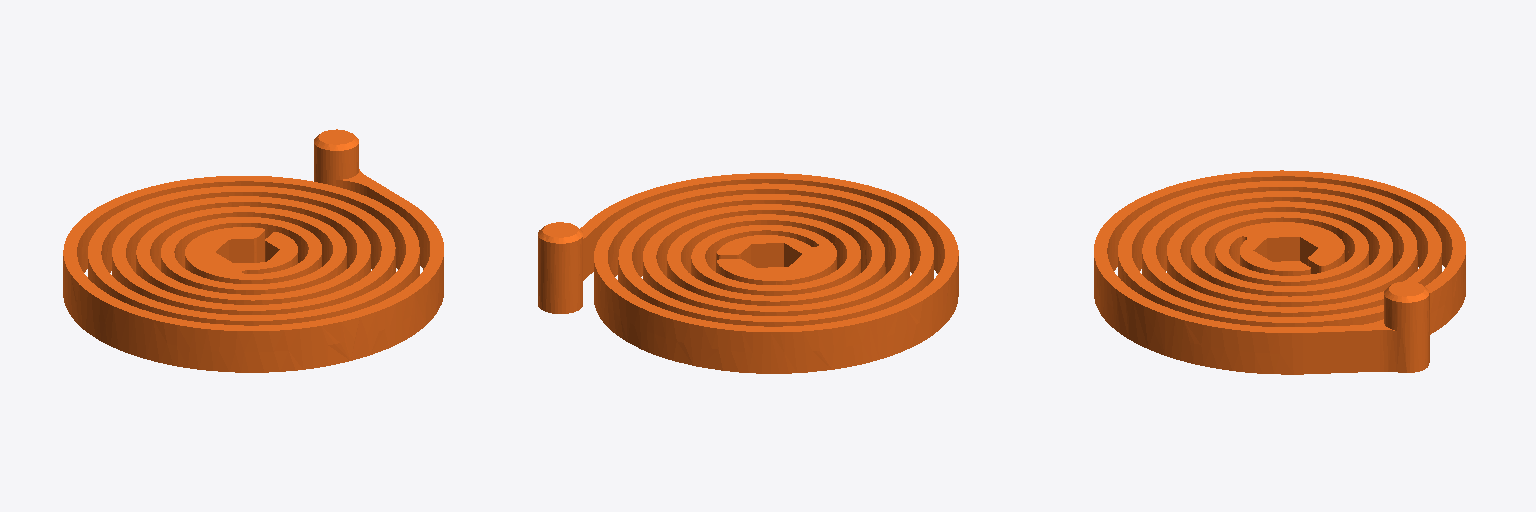
Rendered from tinker.obj.
The picture shows the model from 3 angles: view 1: azimuth 30°, elevation 25°; view 2: azimuth 150°, elevation 25°; view 3: azimuth 270°, elevation 25°; orthographic projection.
Parts seen in each view (by area): view 1: obj_0; view 2: obj_0; view 3: obj_0.
Part boxes in pixels (x1,y1,x2,y2): obj_0: (63, 129, 443, 372); obj_0: (538, 173, 958, 373); obj_0: (1094, 170, 1465, 374).
Bounding box in the file's own units: 42.1 × 9 × 40.76.